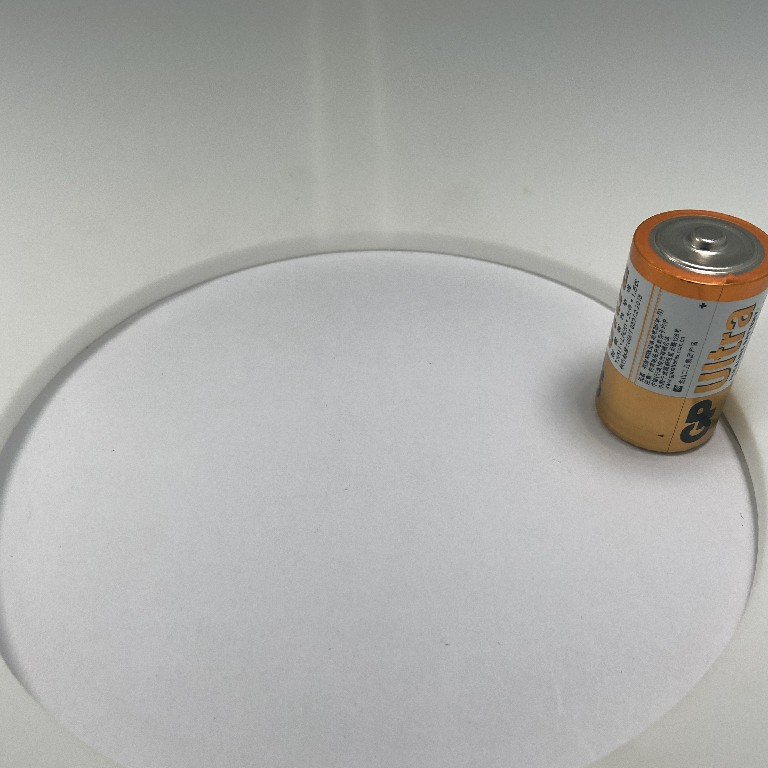charge: (589, 205, 768, 457)
